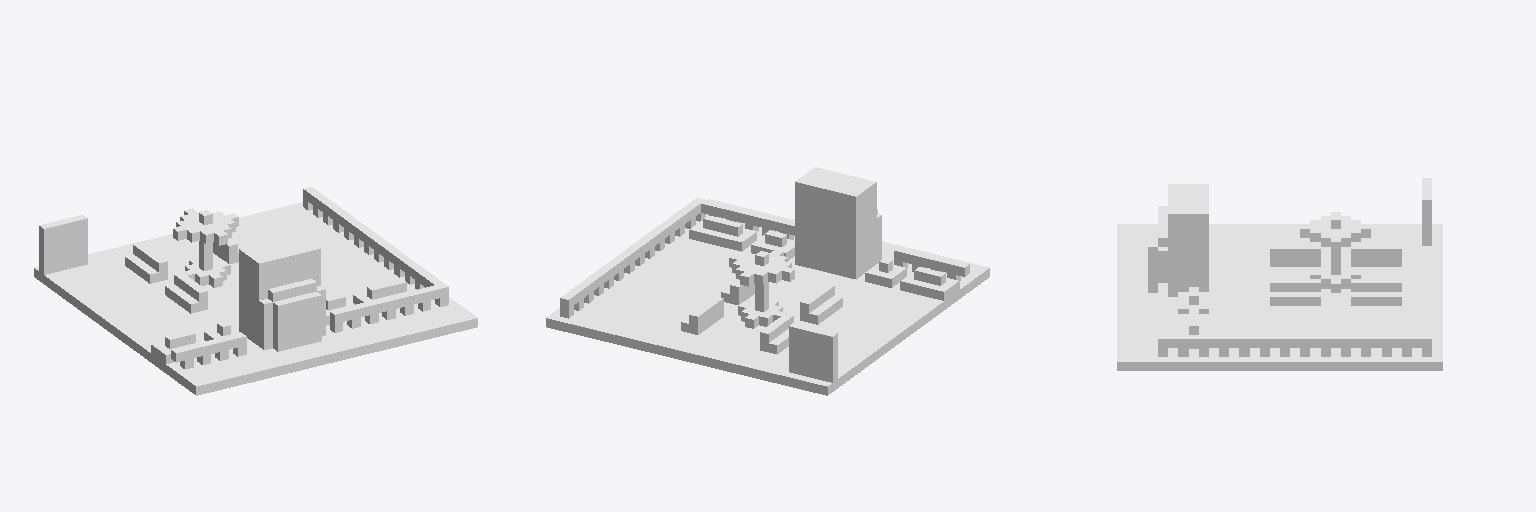
Rendered from restaurant1.1.obj.
3 views of the same model, side by side, from view 1: azimuth 30°, elevation 25°; view 2: azimuth 150°, elevation 25°; view 3: azimuth 270°, elevation 25° (orthographic).
Visible parts, largest first — view 1: object 1; view 2: object 1; view 3: object 1.
Boxes of the visible parts, x1=… form: object 1: x1=34, y1=186, x2=477, y2=395; object 1: x1=546, y1=167, x2=989, y2=395; object 1: x1=1117, y1=178, x2=1442, y2=370.
Size of the model in its own units: 3.2 by 1 by 3.2.